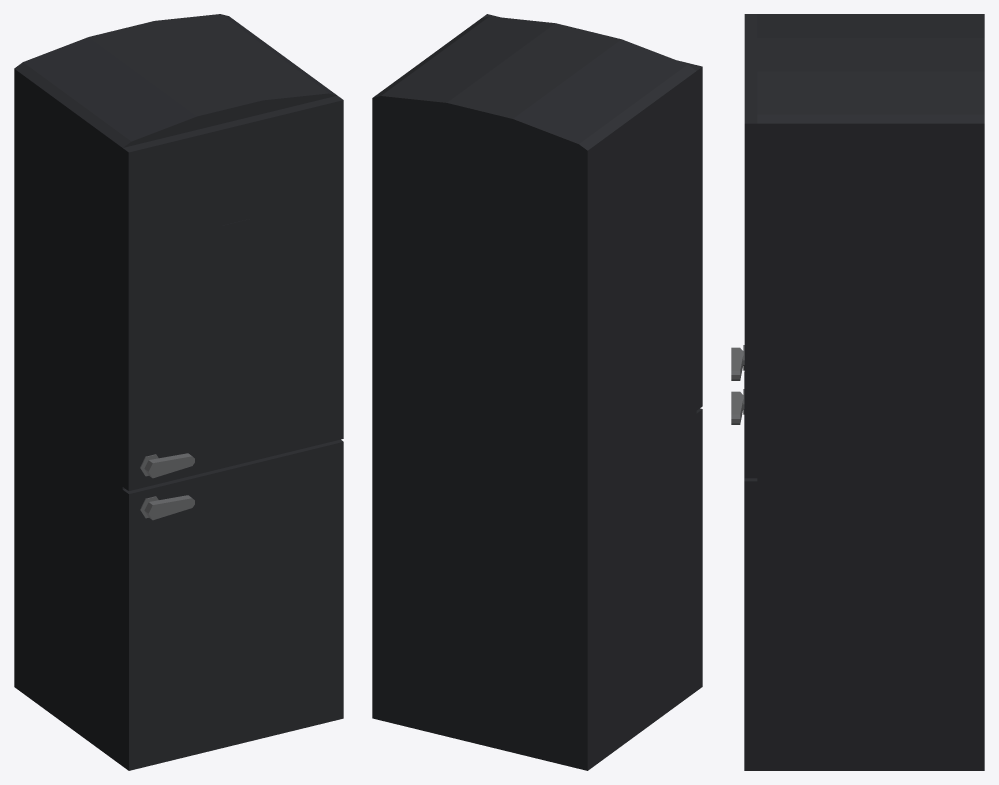
Rendered from oldrefrigerator_01_E.gltf.
The picture shows the model from 3 angles, left to right: view 1: azimuth 30°, elevation 25°; view 2: azimuth 150°, elevation 25°; view 3: azimuth 270°, elevation 25°; orthographic projection. The views are drawn at different scales.
Visible parts, largest first — view 1: oldrefrigerator_01_E, Dooroldrefrigeratortop_01_E, Dooroldrefrigeratorbot_01_E; view 2: oldrefrigerator_01_E, Dooroldrefrigeratortop_01_E, Dooroldrefrigeratorbot_01_E; view 3: oldrefrigerator_01_E, Dooroldrefrigeratortop_01_E, Dooroldrefrigeratorbot_01_E.
Part boxes in pixels (x1,y1,x2,y2): oldrefrigerator_01_E: (14,14,336,765); Dooroldrefrigeratortop_01_E: (122,95,343,490); Dooroldrefrigeratorbot_01_E: (122,439,343,770); oldrefrigerator_01_E: (372,16,696,770); Dooroldrefrigeratortop_01_E: (481,14,702,410); Dooroldrefrigeratorbot_01_E: (696,408,702,690); oldrefrigerator_01_E: (757,14,984,770); Dooroldrefrigeratortop_01_E: (731,14,757,478); Dooroldrefrigeratorbot_01_E: (731,372,757,770).
Bounding box in the file's own units: 0.8 × 2.25 × 0.7804.
1 material, 1 textured.
